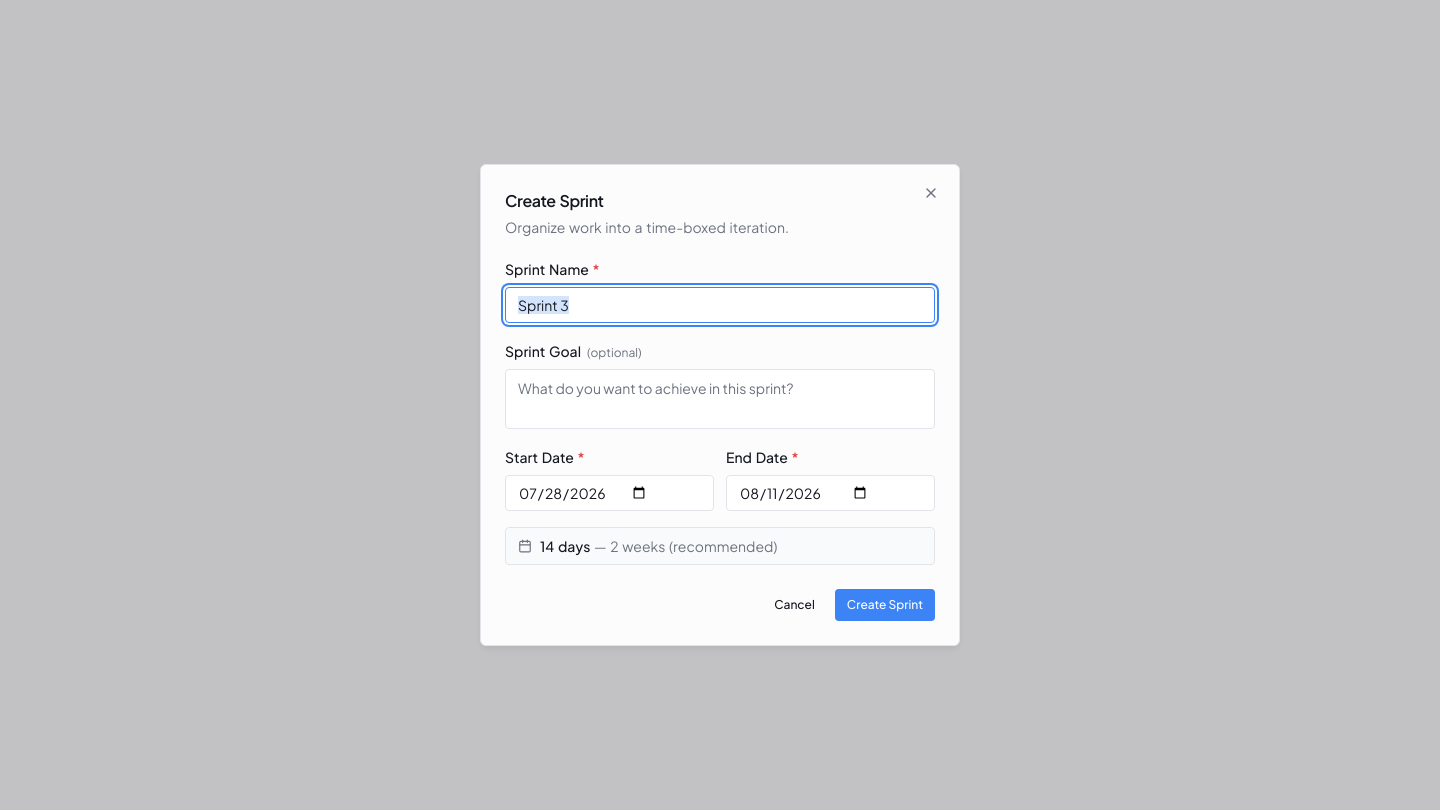
Test: CreateSprintModal › shows "End date must be after start date" when end is before start
This screenshot has width=1440, height=810.
Clear the date field labelled "Start Date *". click: {"x": 610, "y": 493}
box: [505, 475, 714, 511]
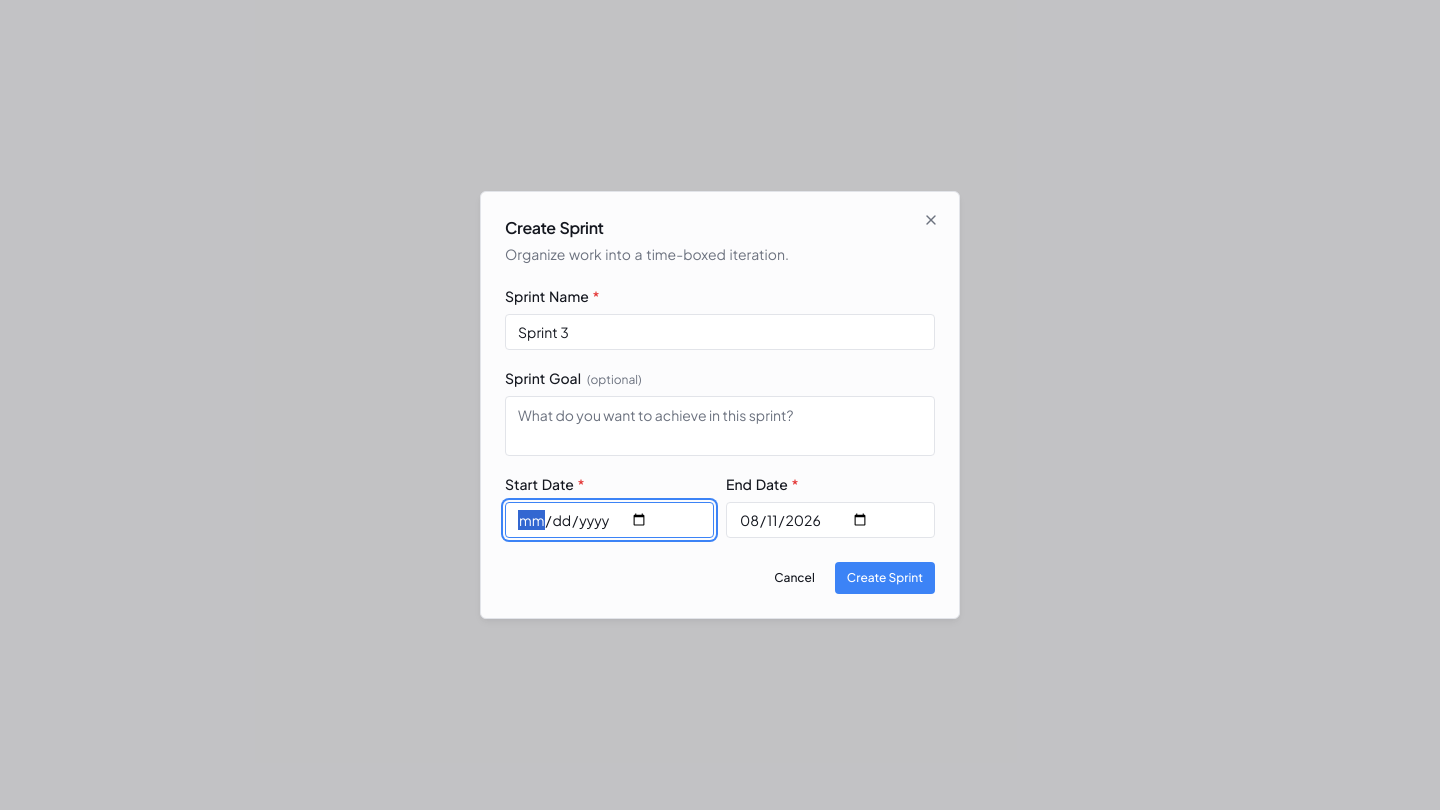
Type "2026-05-10" into the date field labelled "Start Date *". click: {"x": 610, "y": 520}
box: [505, 502, 714, 538]
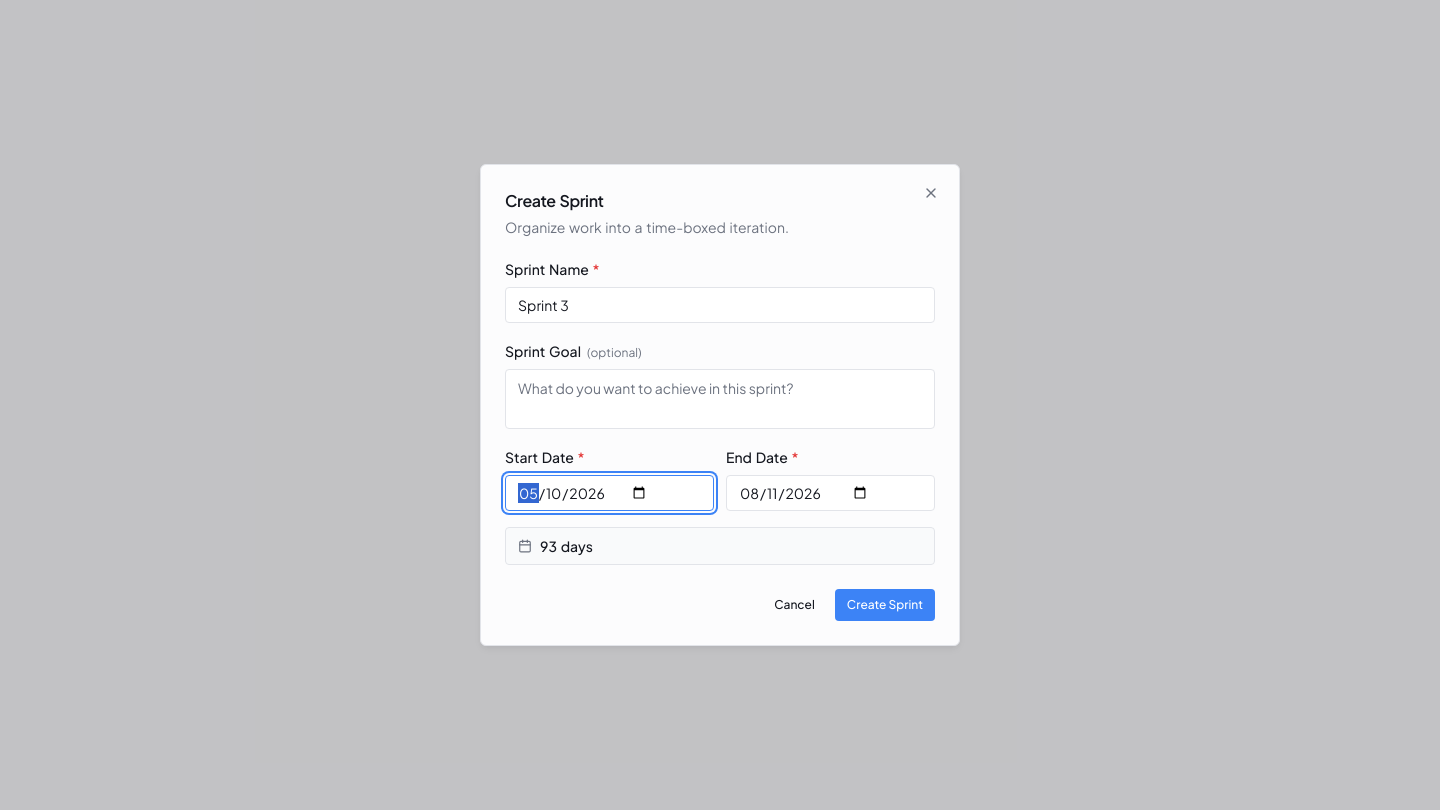
Clear the date field labelled "End Date *". click: {"x": 830, "y": 493}
box: [726, 475, 935, 511]
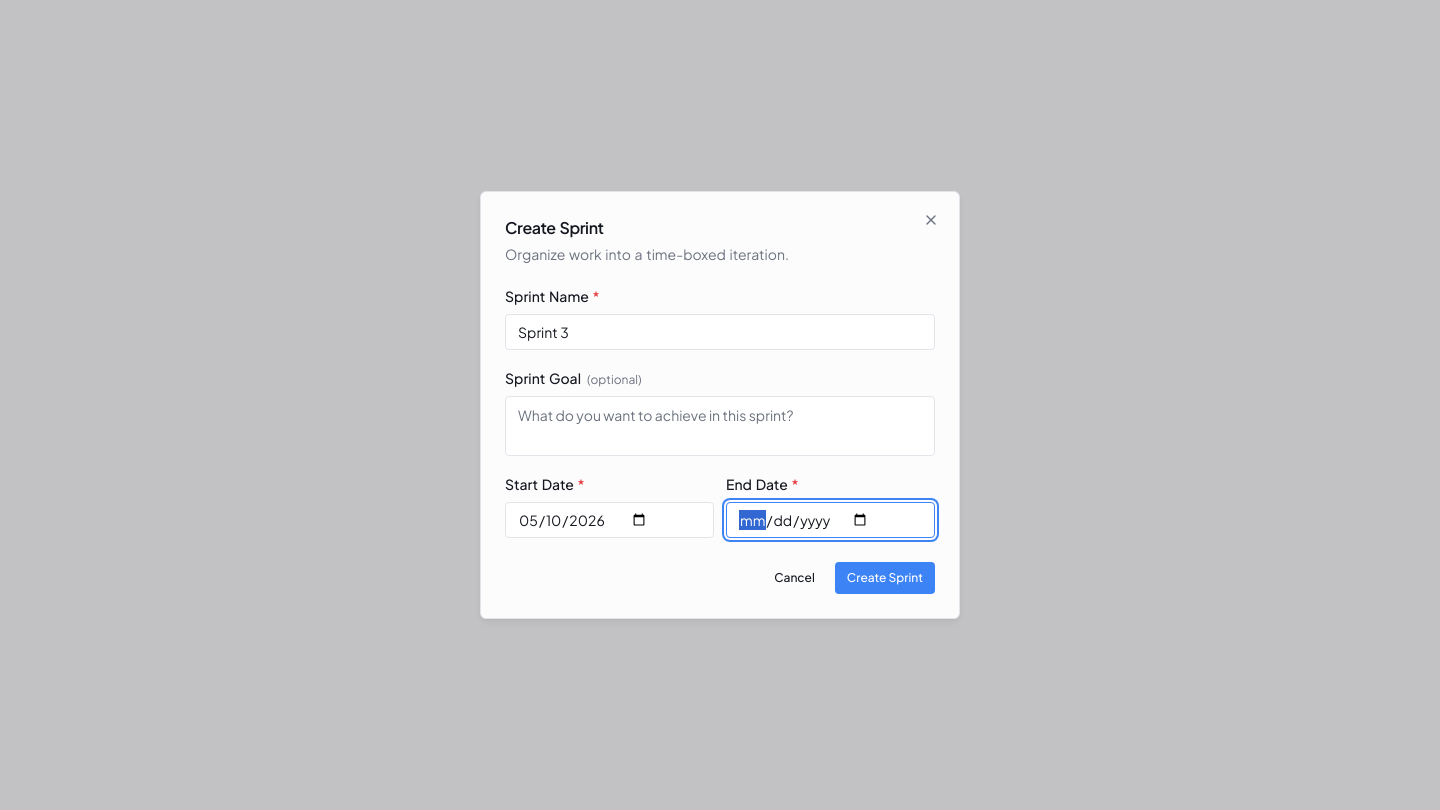
Type "2026-05-01" into the date field labelled "End Date *". click: {"x": 830, "y": 520}
box: [726, 502, 935, 538]
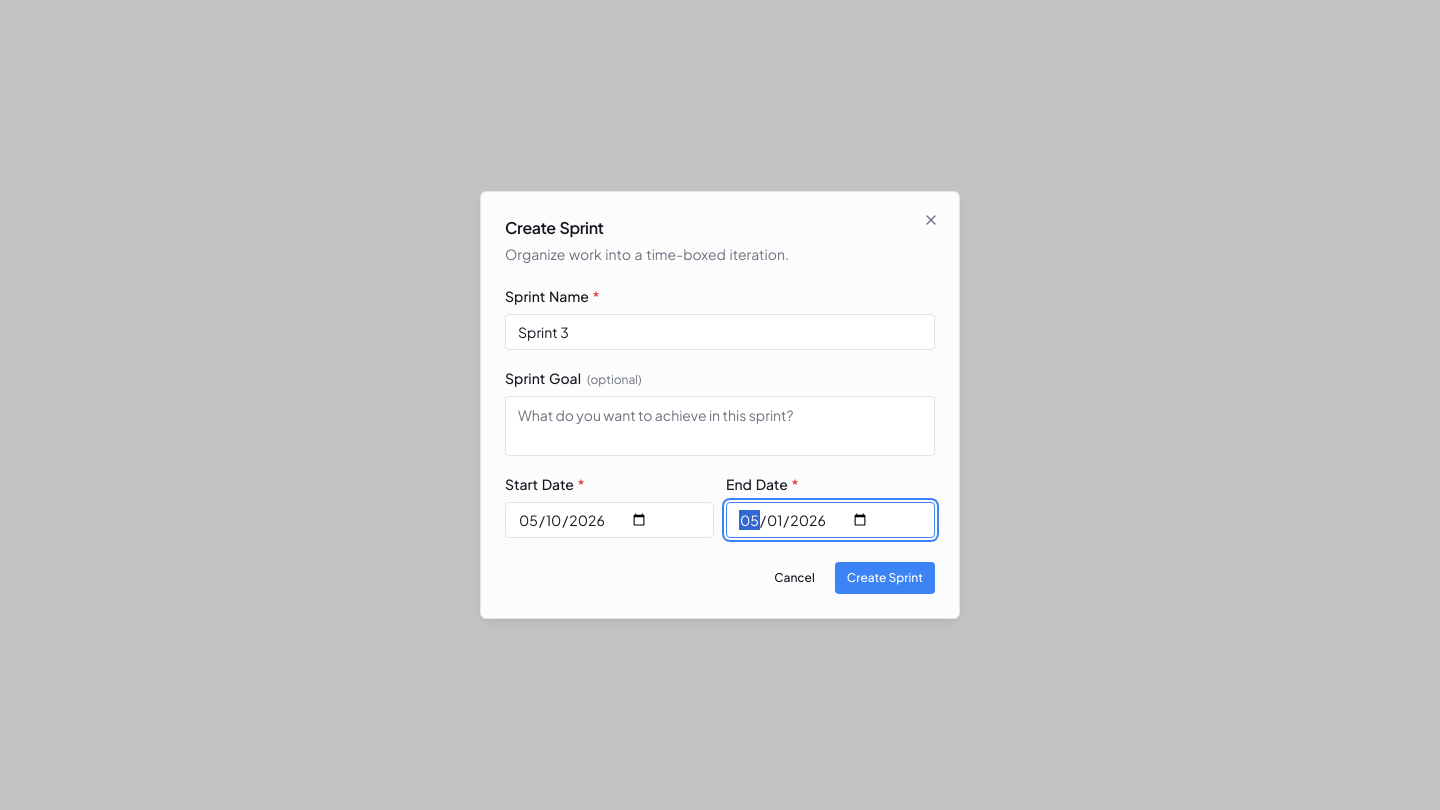
Click the button "Create Sprint". click: {"x": 885, "y": 578}
box: [835, 562, 935, 594]
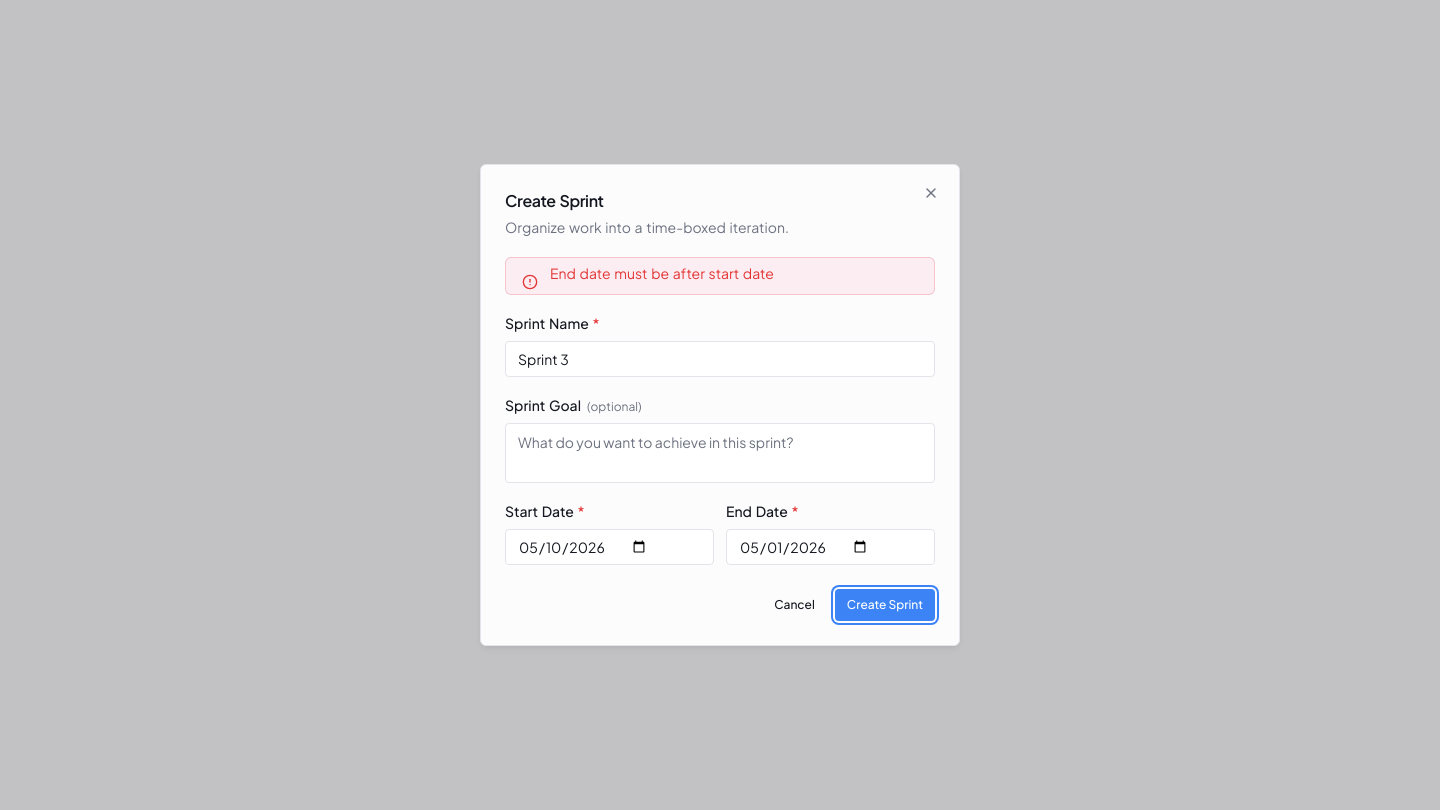
Result: the text "End date must be after start date" is shown at [550, 264, 774, 282]
